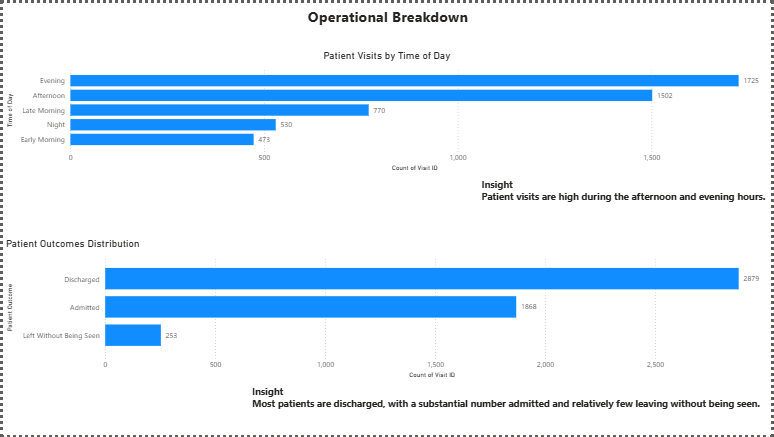

The dashboard page shown, as its layout file describes it:
{"tool":"powerbi","page":{"name":"Breakdowns","canvas":[1280,720],"ordinal":1},"visuals":[{"type":"clusteredBarChart","title":"Patient Visits by Time of Day","fields":{"Category":["ER Wait Time Dataset.Time of Day"],"Y":["CountNonNull(ER Wait Time Dataset.Visit ID)"]},"box":[0,77.5,1280,207.5],"z":0},{"type":"textbox","box":[66.7,0,1148.3,41.7],"z":1000},{"type":"textbox","box":[792.5,285,487.5,57.5],"z":1002},{"type":"clusteredBarChart","title":"Patient Outcomes Distribution","fields":{"Category":["ER Wait Time Dataset.Patient Outcome"],"Y":["CountNonNull(ER Wait Time Dataset.Visit ID)"]},"box":[0,390,1280,240],"z":1003},{"type":"textbox","box":[410,630,870,55],"z":1004}]}

Visuals, with their boxes in screenshot pixels (x1, y1, x2, y2), scaled from the page's 1280x720 canvas onto the 774x437 screenshot:
"Patient Visits by Time of Day" clusteredBarChart: (left=0, top=47, right=773, bottom=173)
textbox: (left=40, top=0, right=735, bottom=25)
textbox: (left=479, top=173, right=773, bottom=208)
"Patient Outcomes Distribution" clusteredBarChart: (left=0, top=237, right=773, bottom=382)
textbox: (left=248, top=382, right=773, bottom=416)
